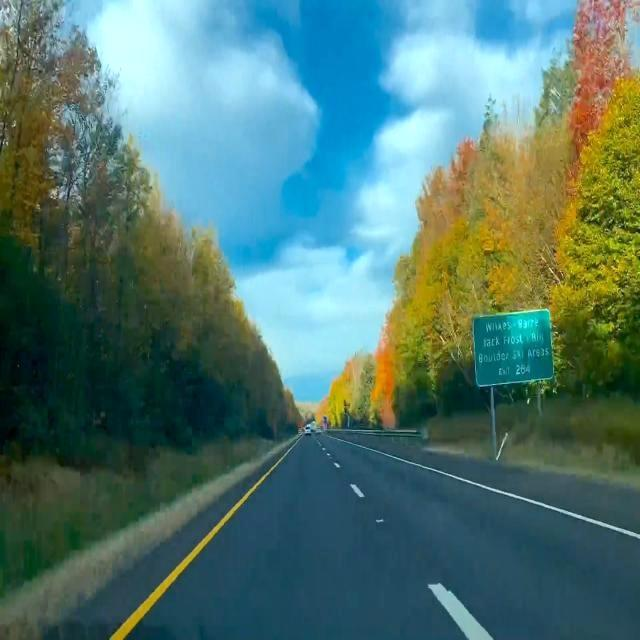lane: (109, 438, 301, 639), (331, 438, 640, 541), (428, 582, 494, 640), (428, 584, 494, 640), (351, 484, 364, 498)
road: (127, 433, 639, 639), (44, 475, 256, 639)
